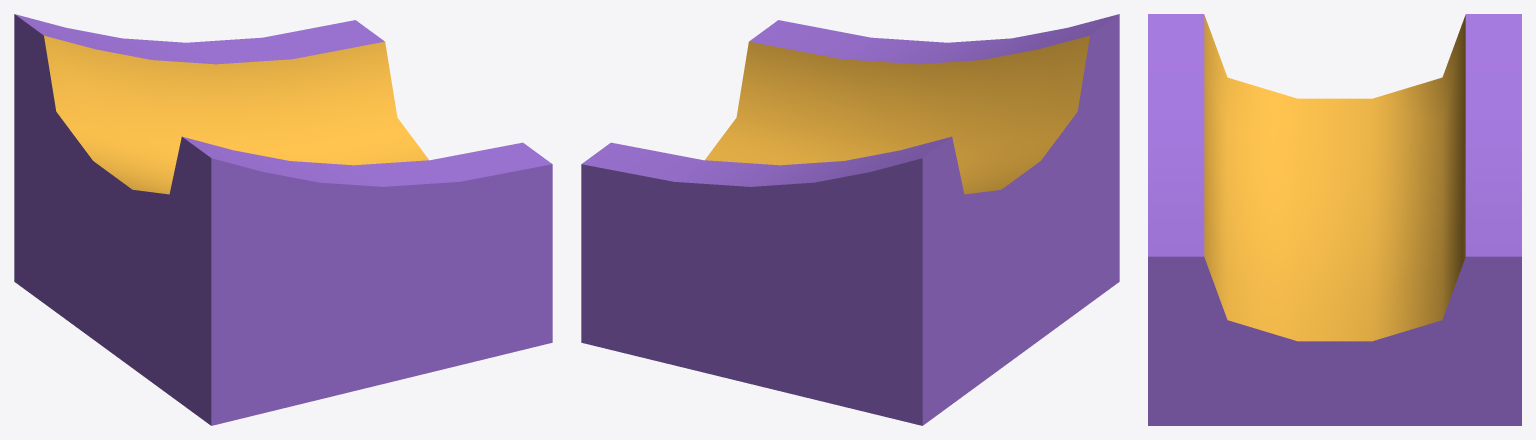
The model's file is ramp-start-solid-b-col.glb.
The picture shows the model from 3 angles, left to right: view 1: azimuth 30°, elevation 25°; view 2: azimuth 150°, elevation 25°; view 3: azimuth 270°, elevation 25°; orthographic projection. The views are drawn at different scales.
Visible parts, largest first — view 1: ramp-start-solid-b-col; view 2: ramp-start-solid-b-col; view 3: ramp-start-solid-b-col.
Part boxes in pixels (x1=…): ramp-start-solid-b-col: x1=14, y1=14, x2=552, y2=425; ramp-start-solid-b-col: x1=581, y1=14, x2=1119, y2=425; ramp-start-solid-b-col: x1=1148, y1=14, x2=1521, y2=425.
Bounding box in the file's own units: 1 × 0.75 × 1.
1 material, 1 textured.
